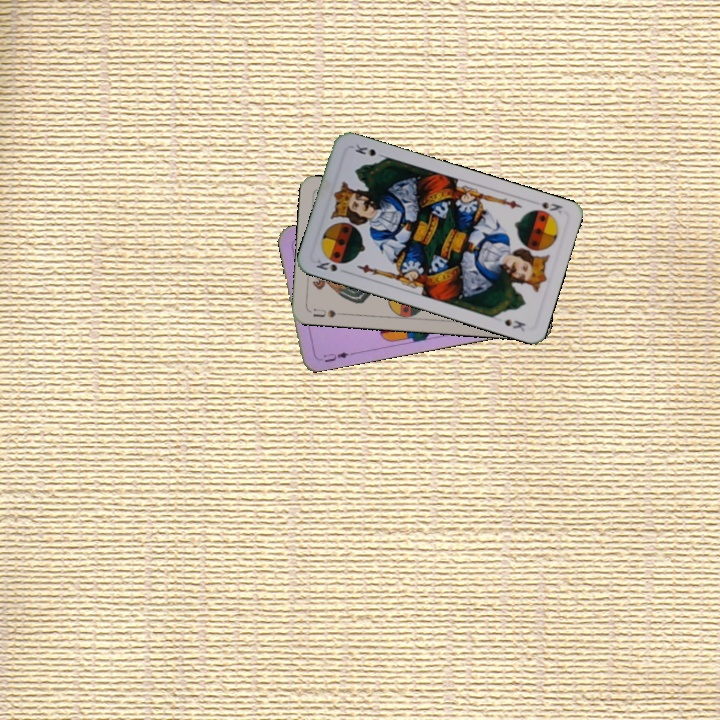EU: (319, 348, 355, 365)
SK: (311, 253, 347, 274), (537, 198, 565, 216)
SU: (309, 304, 347, 320)
